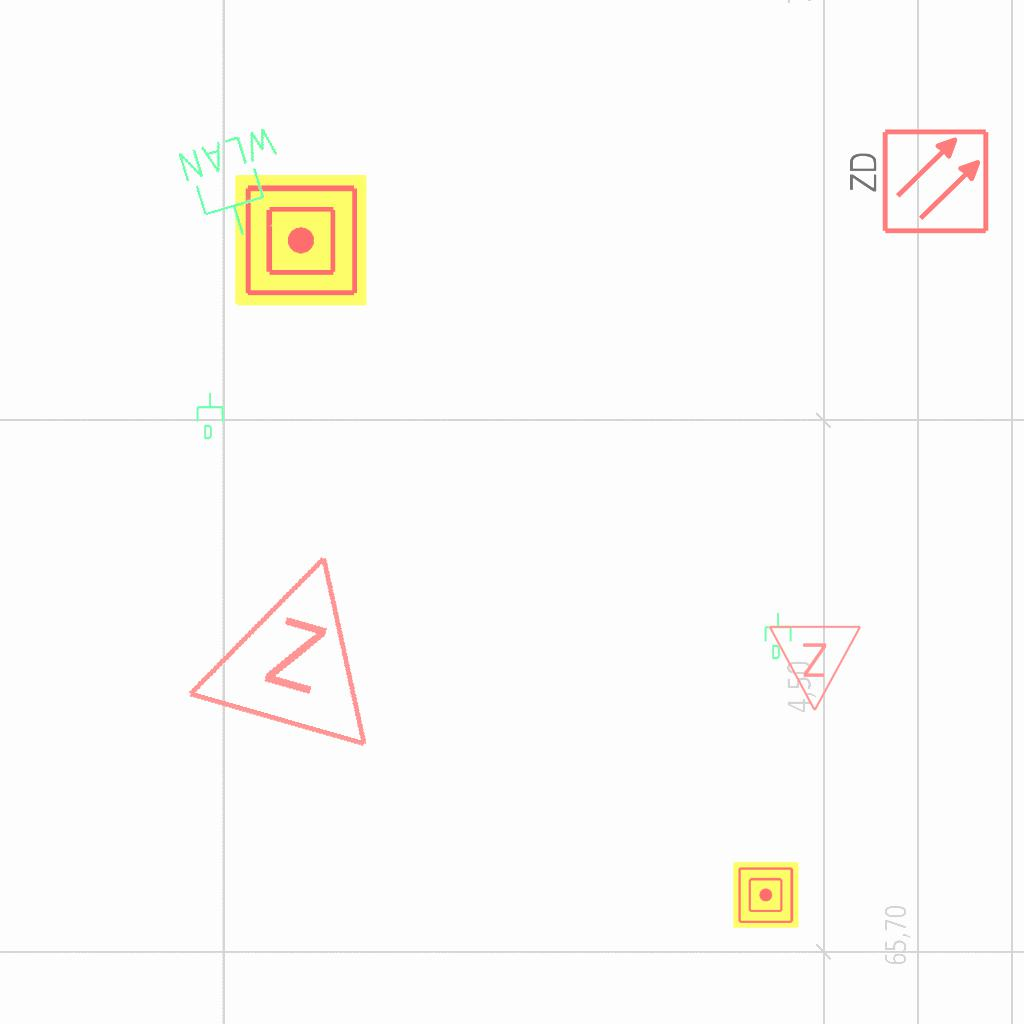Datenanschluss_einfach: (194, 391, 228, 441), (762, 611, 796, 661)
NAM-Nichtautomatischer_Melder: (235, 174, 367, 306), (733, 862, 799, 928)
WLAN: (172, 120, 304, 251)
ZD_Melder_in_Zwischendecke_mit_Revisionsoeffnung_mind_40_x_40_cm: (842, 126, 991, 240)
Zimmersignalleuchte: (176, 515, 420, 763), (767, 618, 865, 718)
